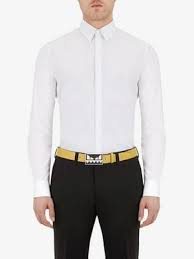F_belt: (48, 140, 145, 167)
F_dress pants: (44, 159, 146, 258)
F_shirt: (24, 18, 166, 204)
